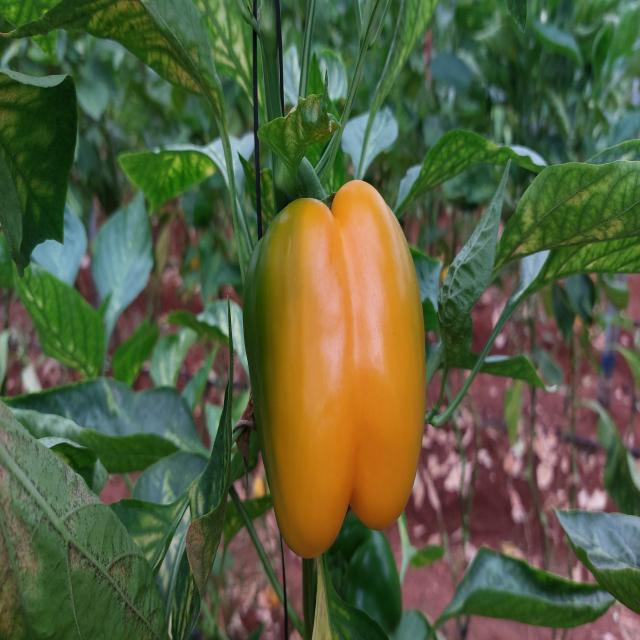GreenishYellow--Can-be-Harvested: (244, 174, 456, 558)
